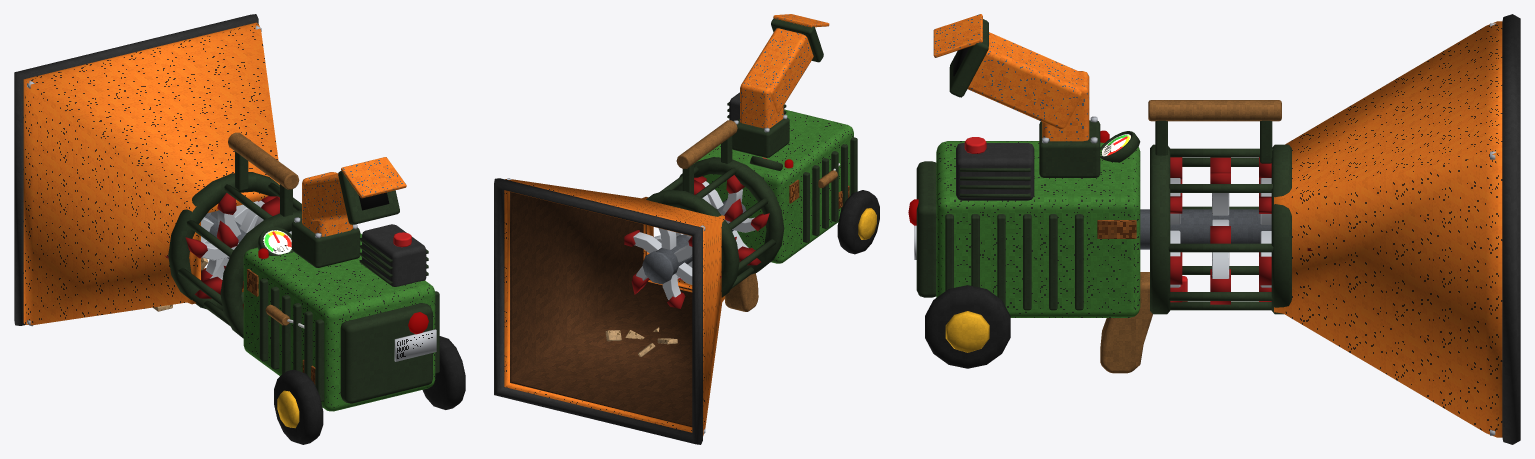
The model's file is w_shredder_chipper.glb.
The picture shows the model from 3 angles, left to right: view 1: azimuth 30°, elevation 25°; view 2: azimuth 150°, elevation 25°; view 3: azimuth 270°, elevation 25°; orthographic projection. The views are drawn at different scales.
Parts seen in each view (by area): view 1: wc_works_wzB, wc_motor_wzA, sh_teeth_wzN, wc_trim_wzN; view 2: wc_trim_wzN, wc_works_wzB, wc_motor_wzA, sh_teeth_wzN; view 3: wc_works_wzB, wc_motor_wzA, sh_teeth_wzN, wc_trim_wzN.
Boxes of the visible parts, x1=… form: wc_works_wzB: x1=14, y1=14, x2=439, y2=403; wc_motor_wzA: x1=228, y1=132, x2=465, y2=444; sh_teeth_wzN: x1=165, y1=193, x2=291, y2=309; wc_trim_wzN: x1=27, y1=25, x2=436, y2=428; wc_trim_wzN: x1=507, y1=114, x2=876, y2=433; wc_works_wzB: x1=494, y1=18, x2=857, y2=444; wc_motor_wzA: x1=676, y1=14, x2=879, y2=311; sh_teeth_wzN: x1=624, y1=175, x2=769, y2=308; wc_works_wzB: x1=916, y1=14, x2=1520, y2=444; wc_motor_wzA: x1=925, y1=14, x2=1281, y2=373; sh_teeth_wzN: x1=1140, y1=157, x2=1312, y2=304; wc_trim_wzN: x1=914, y1=23, x2=1495, y2=435.
Bounding box in the file's own units: 0.413 × 0.4919 × 0.7795.
Materials: 23 (17 with a texture image).
